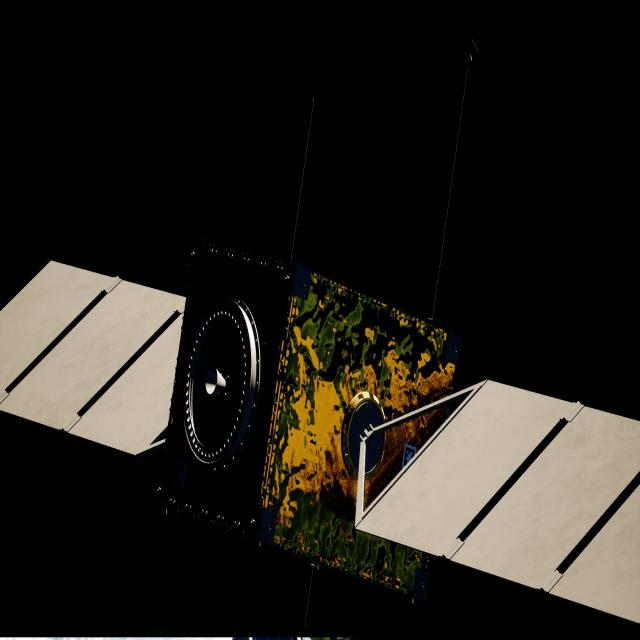medium_debris: (0, 251, 640, 626)
